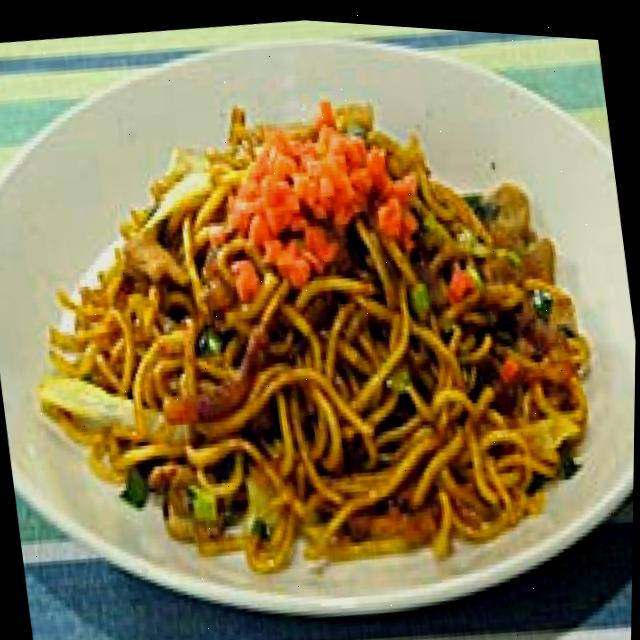面条主食: (26, 35, 619, 594)
